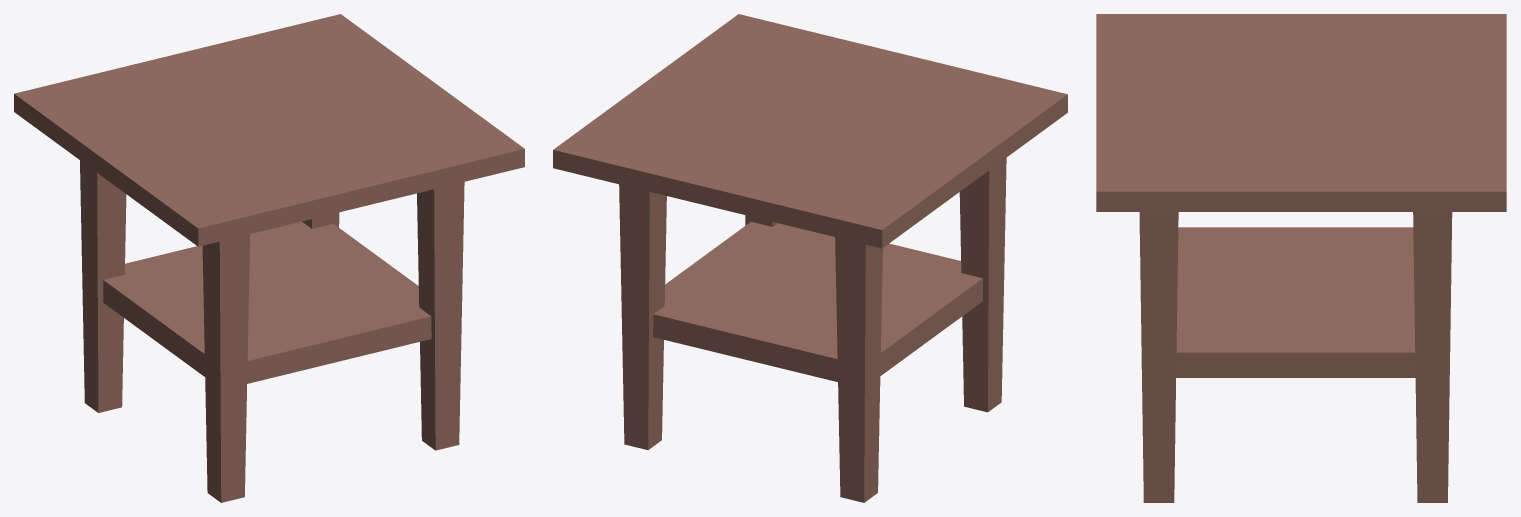
File: coffee_table_003.glb
3 views of the same model, side by side, from view 1: azimuth 30°, elevation 25°; view 2: azimuth 150°, elevation 25°; view 3: azimuth 270°, elevation 25° (orthographic). The views are drawn at different scales.
Parts seen in each view (by area): view 1: coffee_table_003; view 2: coffee_table_003; view 3: coffee_table_003.
Boxes of the visible parts, x1=… form: coffee_table_003: x1=14, y1=14, x2=524, y2=502; coffee_table_003: x1=553, y1=14, x2=1067, y2=502; coffee_table_003: x1=1096, y1=14, x2=1506, y2=502.
Size of the model in its own units: 0.5485 by 0.4828 by 0.5357.
1 material, 1 textured.
